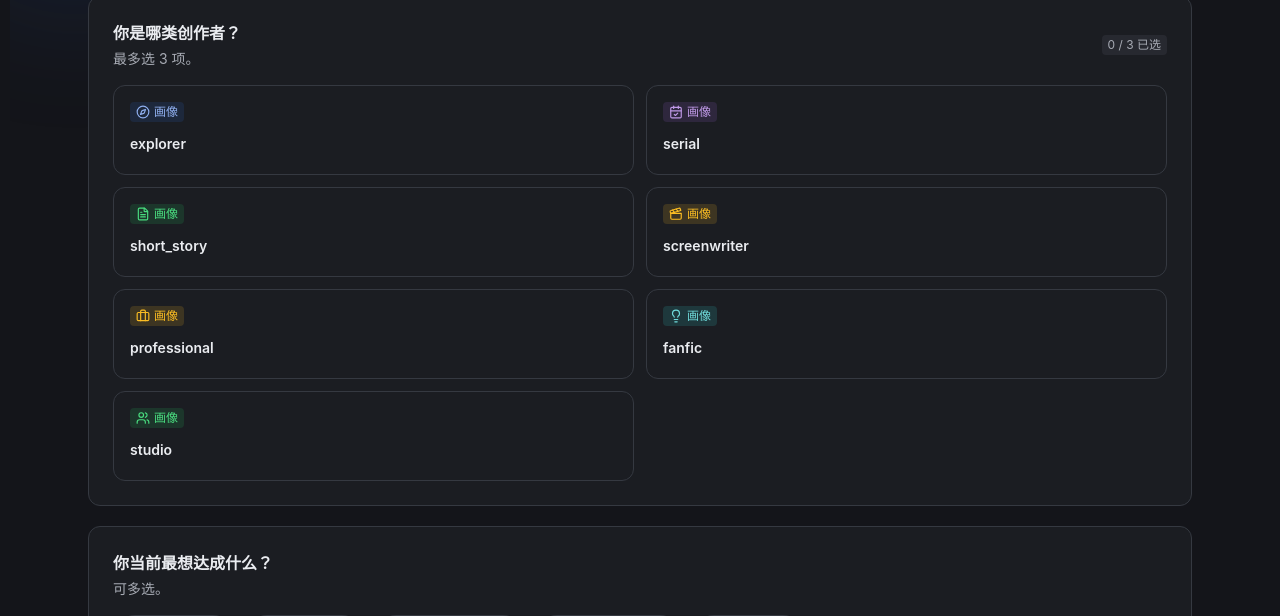
Test: OnboardingPersonaPage › explains why save is disabled instead of silently ignoring the click
Click the button "画像 explorer": x=157, y=112 [113, 85, 634, 175]
(page scrolled)
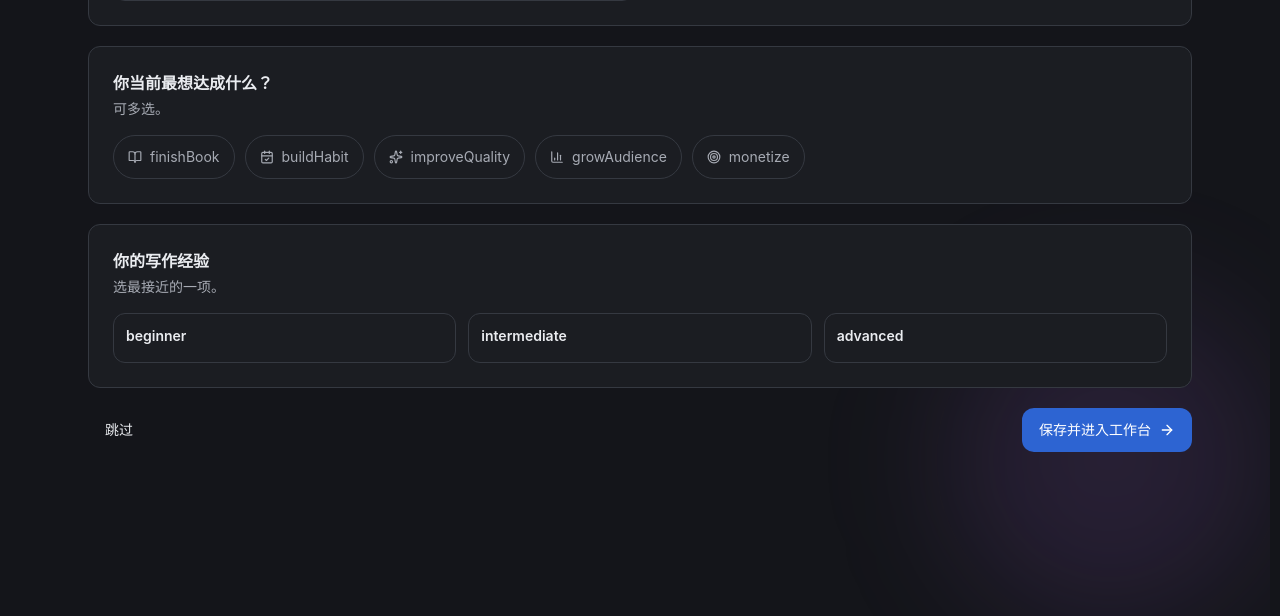
expect the button "保存并进入工作台" is enabled: met, box [1022, 408, 1192, 452]
